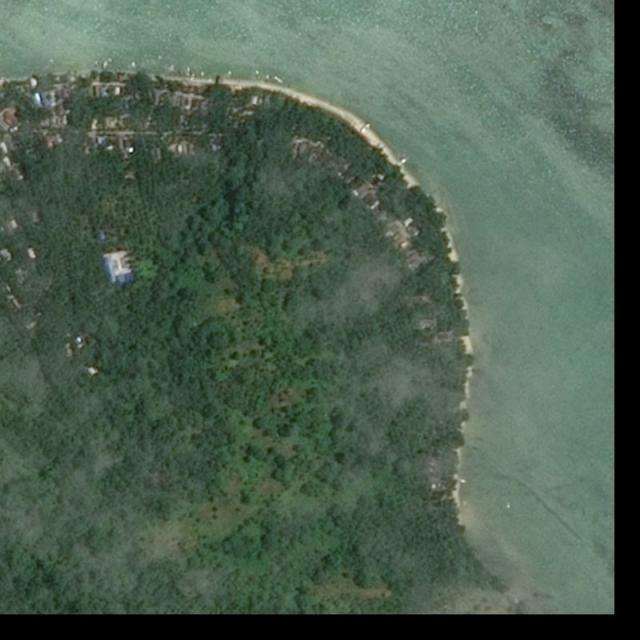ship: (507, 502, 510, 510)
